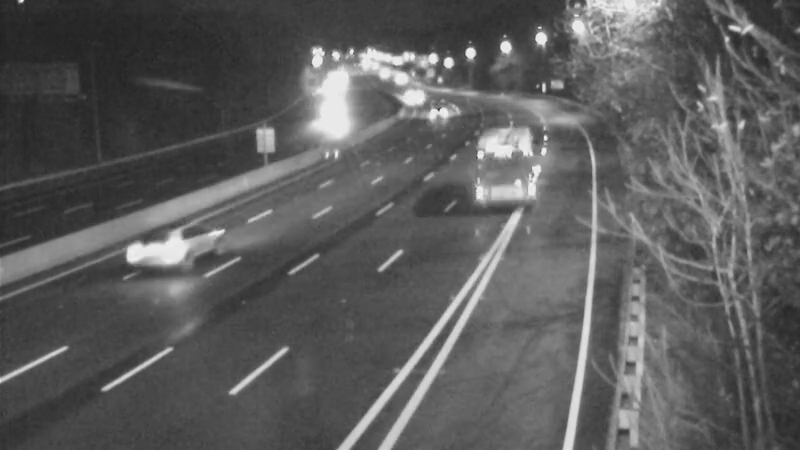vehicle: (118, 209, 198, 289), (383, 73, 433, 123), (411, 89, 461, 139), (477, 121, 527, 171), (302, 87, 352, 137)
